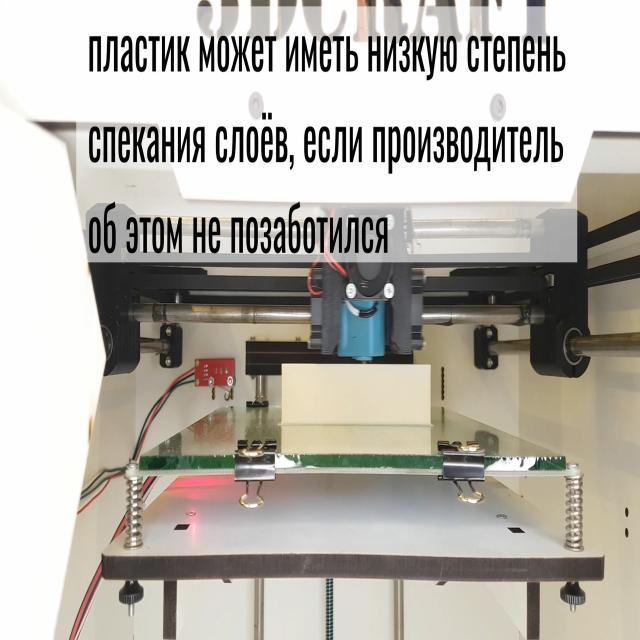Without deffect: (275, 346, 434, 437)
